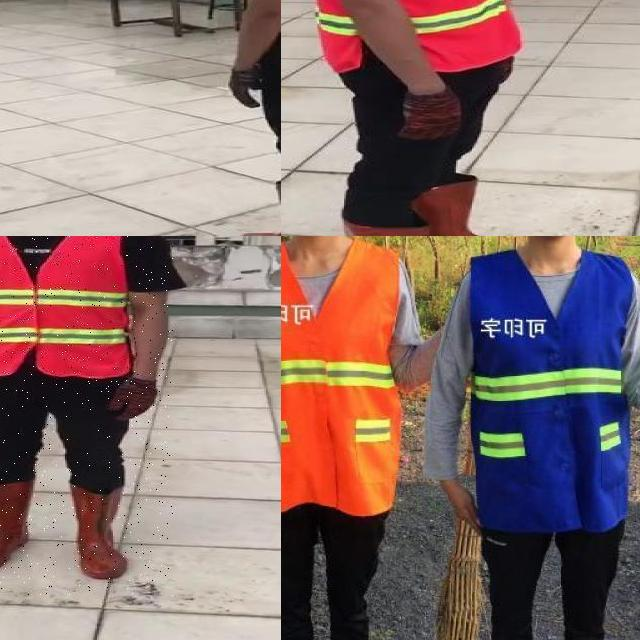boots: (426, 178, 536, 236), (67, 483, 129, 579), (0, 480, 31, 572), (237, 184, 281, 236)
hand_glove: (394, 89, 466, 139), (224, 67, 264, 109)
person: (407, 236, 640, 640), (281, 0, 546, 236), (0, 236, 173, 596), (281, 236, 418, 640), (213, 0, 281, 236)
vest: (464, 248, 637, 530), (281, 237, 415, 512), (0, 236, 132, 379), (281, 0, 525, 71)
